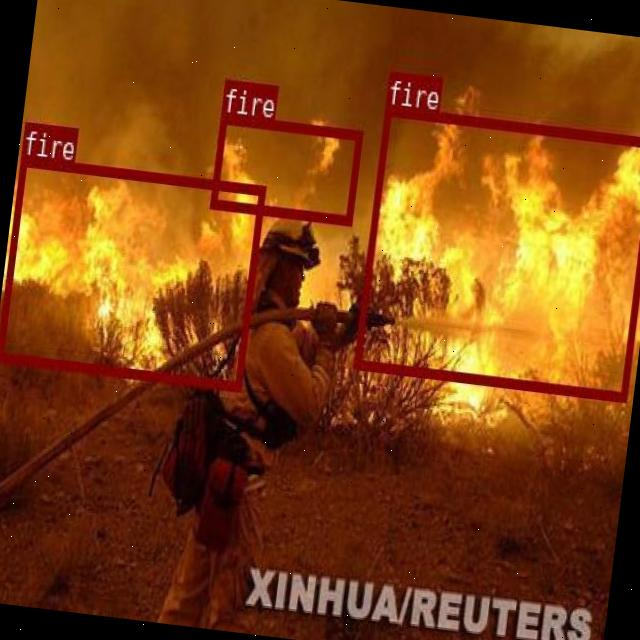fire: (352, 104, 640, 400), (0, 155, 264, 388), (208, 112, 360, 223)
